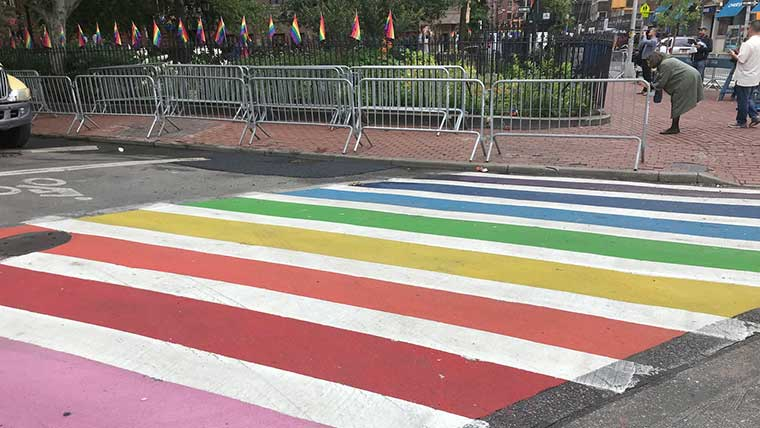Crosswalk: (11, 180, 760, 423)
